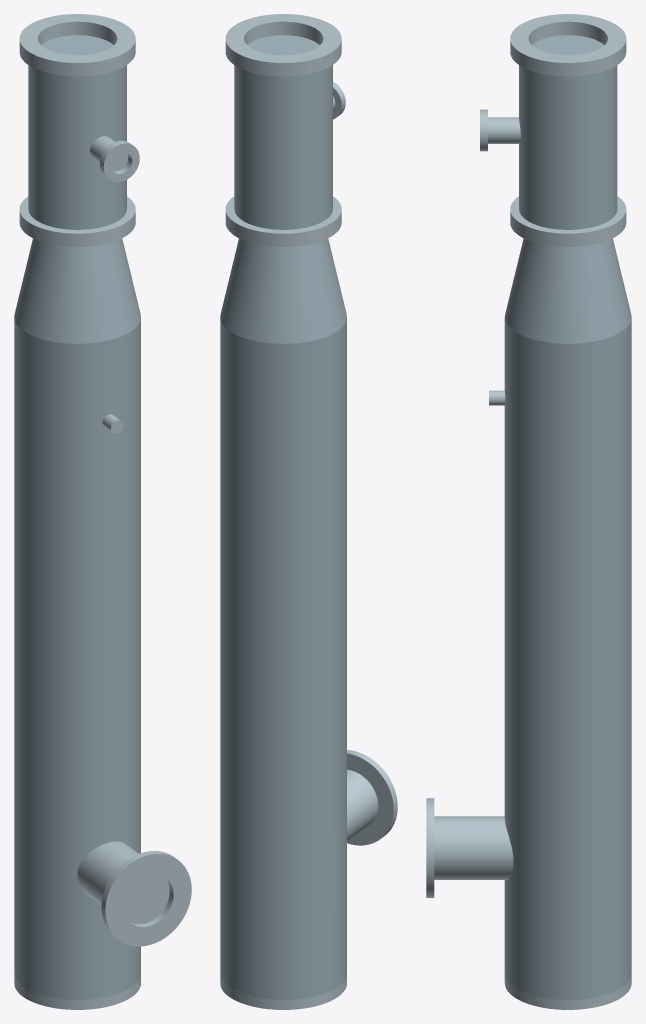
3 renders of one model, left to right at view 1: azimuth 30°, elevation 25°; view 2: azimuth 150°, elevation 25°; view 3: azimuth 270°, elevation 25°, orthographic.
Parts seen in each view (by area): view 1: 主管_直管段, 主管_短接管, 主管_变径段, 法兰_末端法兰, 附件_调节阀示意法兰, 附件_调节阀示意接颈, 法兰_变径连接法兰, 法兰_首端法兰, 附件_短接管附件法兰, 附件_短接管附件接颈; view 2: 主管_直管段, 主管_短接管, 主管_变径段, 法兰_末端法兰, 法兰_变径连接法兰, 附件_调节阀示意法兰, 附件_调节阀示意接颈, 法兰_首端法兰; view 3: 主管_直管段, 主管_短接管, 主管_变径段, 法兰_末端法兰, 附件_调节阀示意接颈, 法兰_变径连接法兰, 法兰_首端法兰, 附件_调节阀示意法兰, 附件_短接管附件接颈.
Boxes of the visible parts, box(x1,y1,x2,y2) form: 主管_直管段: box(14, 319, 140, 999); 主管_短接管: box(28, 35, 126, 229); 主管_变径段: box(14, 238, 140, 343); 法兰_末端法兰: box(19, 14, 135, 76); 附件_调节阀示意法兰: box(101, 851, 191, 946); 附件_调节阀示意接颈: box(77, 841, 169, 924); 法兰_变径连接法兰: box(19, 196, 135, 246); 法兰_首端法兰: box(14, 975, 140, 1009); 附件_短接管附件法兰: box(99, 140, 139, 182); 附件_短接管附件接颈: box(89, 136, 128, 171); 主管_直管段: box(220, 319, 346, 999); 主管_短接管: box(234, 35, 332, 229); 主管_变径段: box(220, 238, 346, 343); 法兰_末端法兰: box(225, 14, 341, 76); 法兰_变径连接法兰: box(225, 196, 341, 246); 附件_调节阀示意法兰: box(347, 750, 397, 845); 附件_调节阀示意接颈: box(347, 769, 378, 840); 法兰_首端法兰: box(220, 975, 346, 1009); 主管_直管段: box(504, 317, 631, 999); 主管_短接管: box(519, 35, 617, 229); 主管_变径段: box(505, 238, 631, 343); 法兰_末端法兰: box(510, 14, 626, 76); 附件_调节阀示意接颈: box(434, 816, 513, 879); 法兰_变径连接法兰: box(510, 196, 626, 247); 法兰_首端法兰: box(504, 973, 631, 1009); 附件_调节阀示意法兰: box(426, 798, 434, 897); 附件_短接管附件接颈: box(488, 117, 520, 143).
Bounding box in the file's own units: 0.639 × 5.25 × 1.03.
